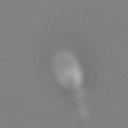abnormal: (67, 87, 97, 128)
